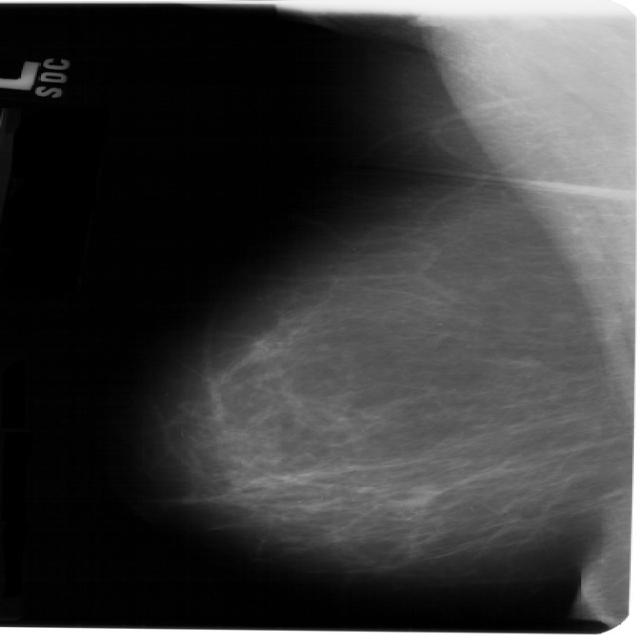tumour: (402, 483, 436, 506)
